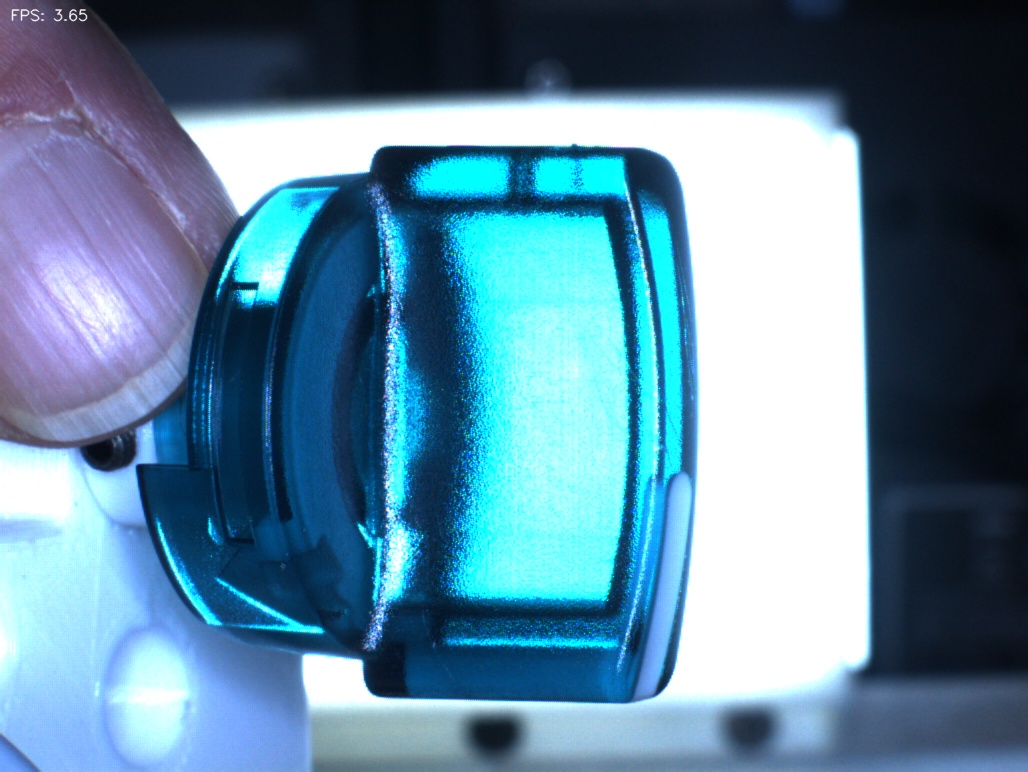Bulle: (528, 108, 623, 215)
